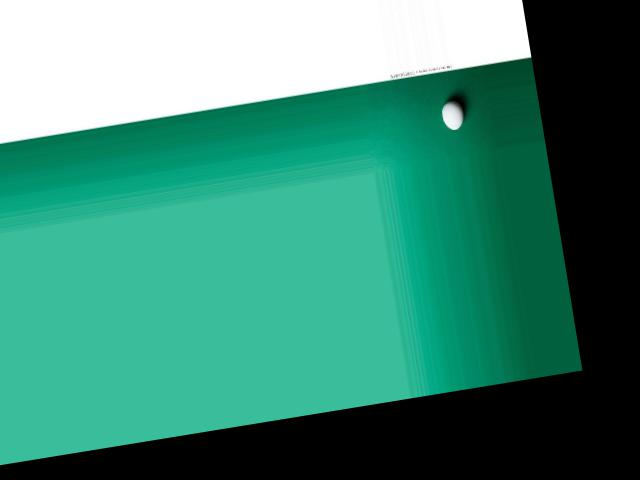egg: (438, 99, 464, 131)
